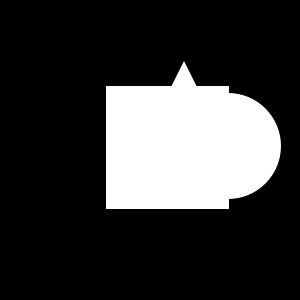circle: (106, 86, 229, 209)
rectangle: (175, 93, 281, 199)
triangle: (132, 61, 236, 165)
